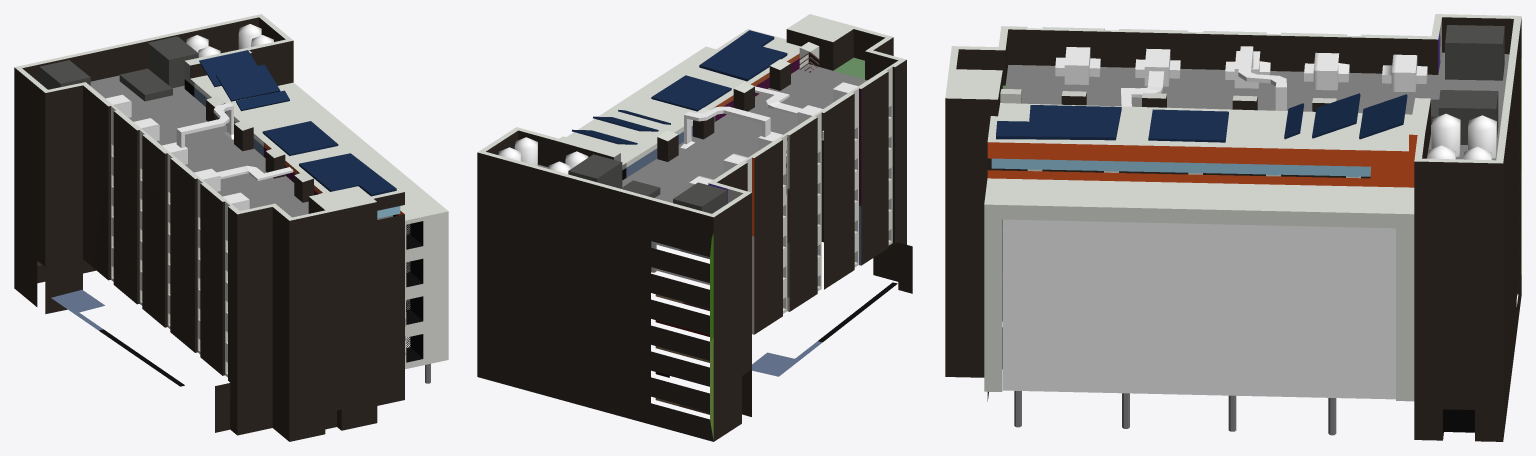
The model's file is Bloque 11B LOD1.fbx.
The picture shows the model from 3 angles, left to right: view 1: azimuth 30°, elevation 25°; view 2: azimuth 150°, elevation 25°; view 3: azimuth 270°, elevation 25°; orthographic projection. The views are drawn at different scales.
Visible parts, largest first — view 1: Bloque11B_LOD1; view 2: Bloque11B_LOD1; view 3: Bloque11B_LOD1.
Part boxes in pixels (x1=…): Bloque11B_LOD1: x1=14, y1=14, x2=448, y2=441; Bloque11B_LOD1: x1=477, y1=14, x2=912, y2=441; Bloque11B_LOD1: x1=945, y1=14, x2=1521, y2=441.
Bounding box in the file's own units: 3090 × 2631 × 4803.
